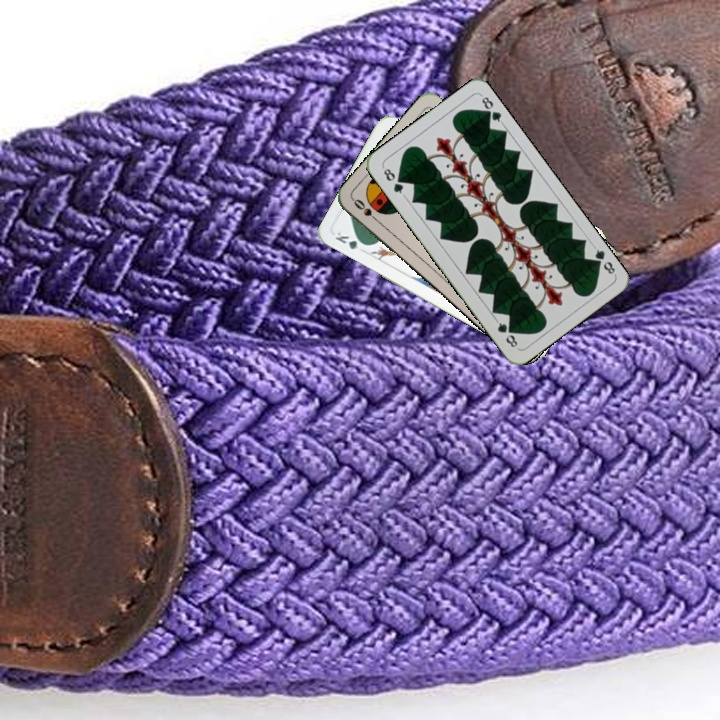G8: (588, 242, 619, 277), (379, 163, 407, 198)
GK: (331, 228, 370, 255)
SO: (349, 195, 383, 226)
